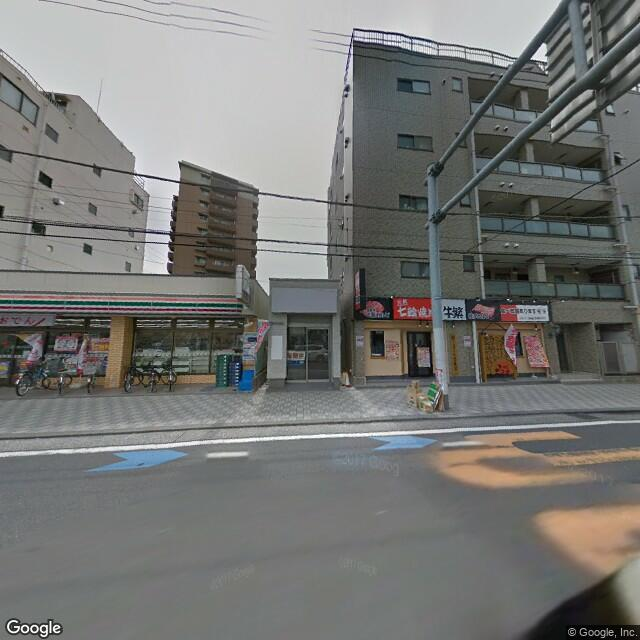7-eleven: (1, 291, 247, 316)
